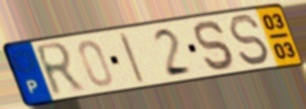0: (77, 38, 114, 89)
2: (150, 28, 194, 79)
I: (117, 30, 148, 86)
R: (32, 40, 88, 100)
S: (226, 13, 273, 68), (192, 18, 239, 72)
